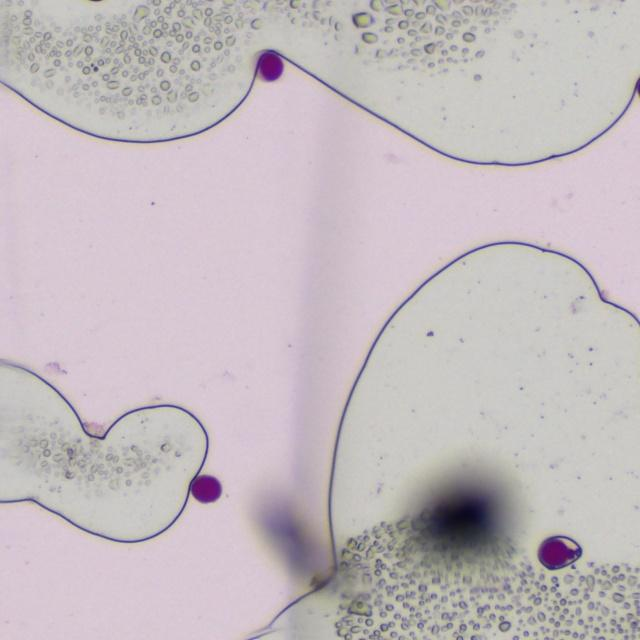viable: (538, 538, 571, 569), (192, 475, 220, 501), (260, 51, 283, 81)
